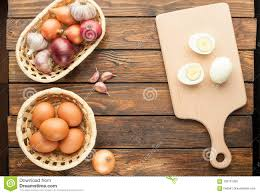Eggs: (191, 35, 216, 55)
Onion: (28, 35, 74, 69)
